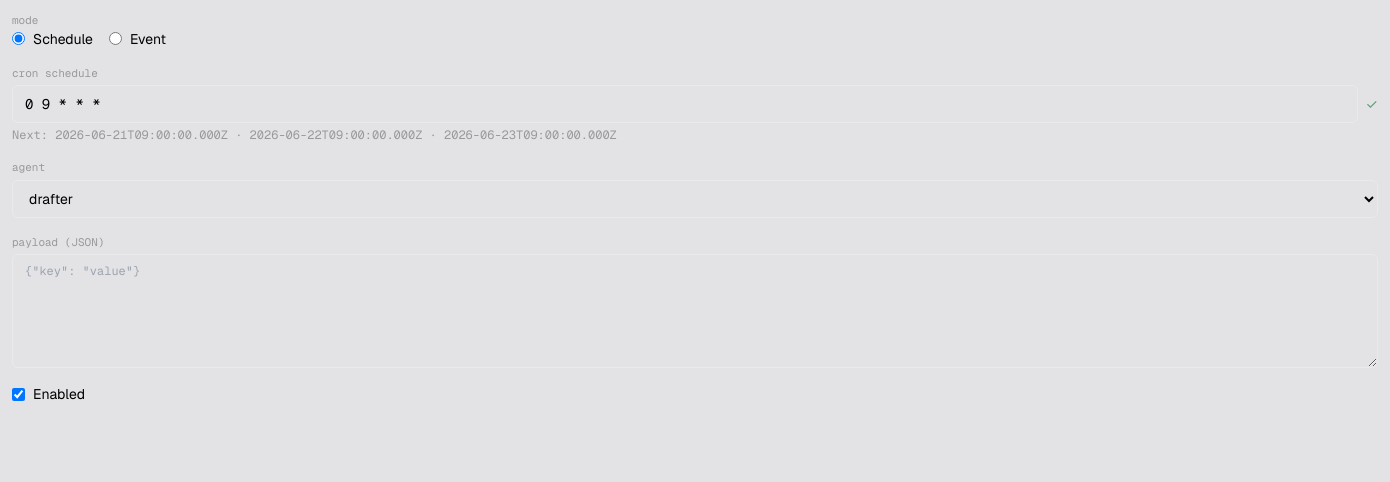
Test: TriggerForm › switching to event mode clears schedule and shows event dropdown
What coordinates should you click on to do the following:
click the radio button labelled "Event"
I would click on:
 (116, 38)
Its box is [109, 32, 122, 45].
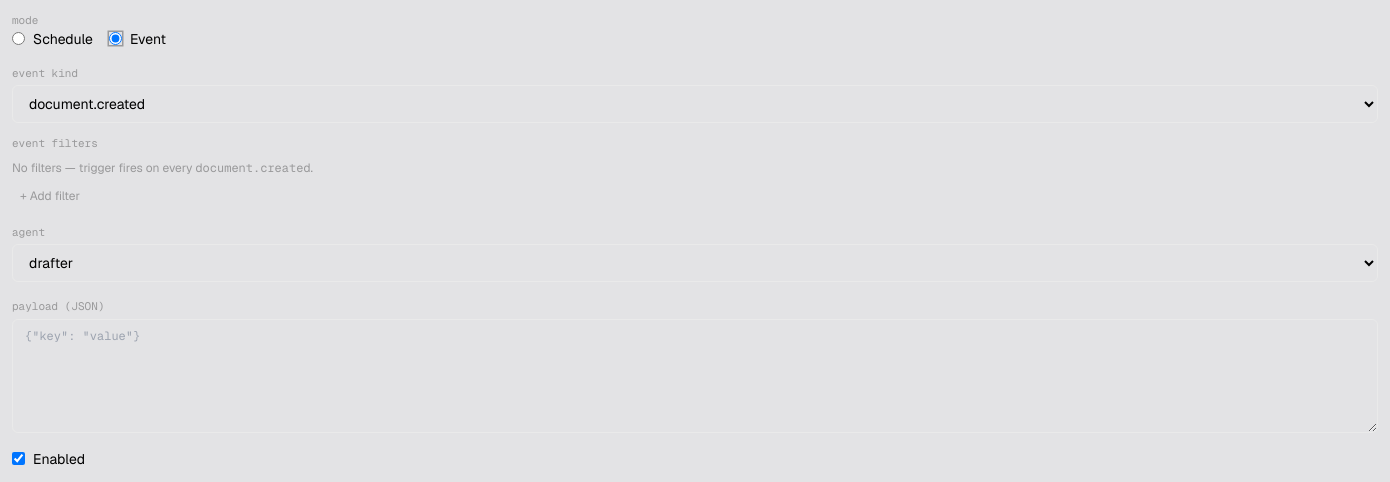
Check: the dropdown labelled "event kind" is shown, box [12, 85, 1378, 123]
